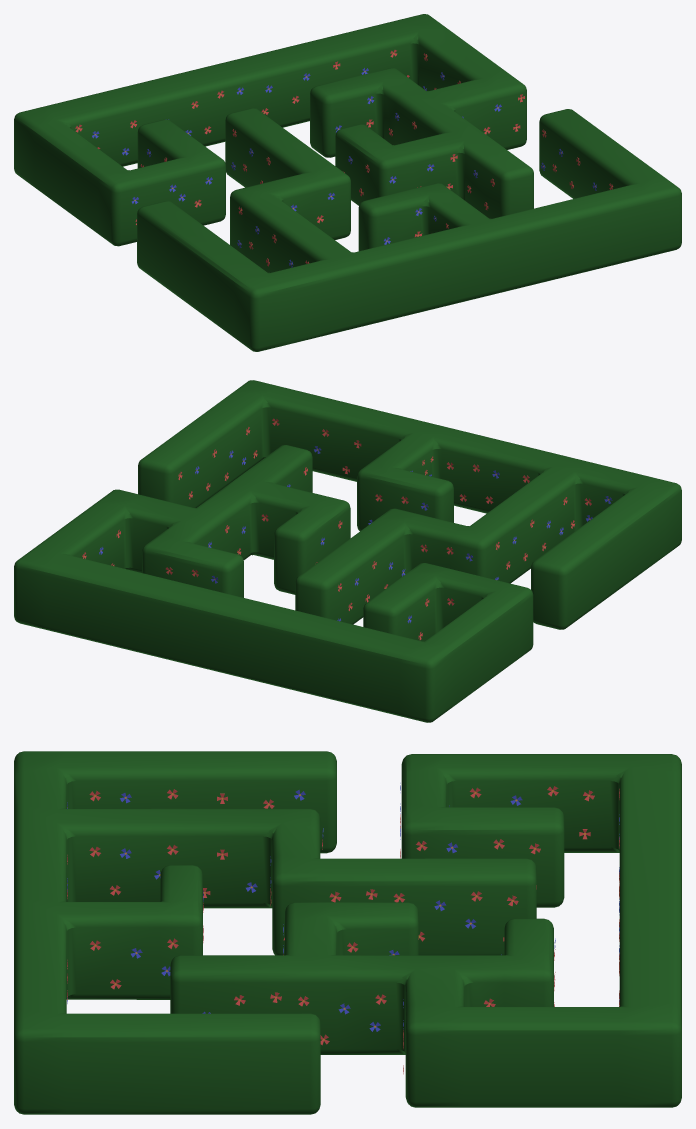
Rendered from bush maze (1).fbx.
The picture shows the model from 3 angles, top to bottom: view 1: azimuth 30°, elevation 25°; view 2: azimuth 150°, elevation 25°; view 3: azimuth 270°, elevation 25°; orthographic projection. The views are drawn at different scales.
Visible parts, largest first — view 1: Cube, Plane.003; view 2: Cube, Plane.006; view 3: Cube, Plane.013.
Boxes of the visible parts, x1=… form: Cube: x1=14, y1=14, x2=681, y2=351; Plane.003: x1=75, y1=50, x2=409, y2=155; Cube: x1=14, y1=380, x2=681, y2=722; Plane.006: x1=272, y1=418, x2=611, y2=521; Cube: x1=14, y1=751, x2=681, y2=1114; Plane.013: x1=89, y1=845, x2=257, y2=897.
Bounding box in the file's own units: 4432 × 615 × 4386.
